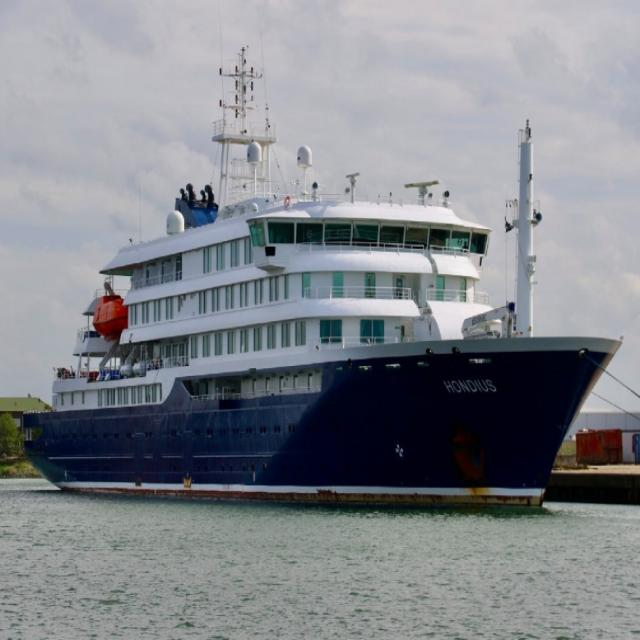cruises: (19, 115, 631, 528)
